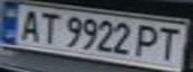2: (112, 19, 136, 56), (97, 18, 118, 54)
9: (60, 14, 84, 48), (78, 16, 100, 52)
A: (12, 7, 45, 43)
P: (133, 22, 163, 60)
T: (154, 25, 187, 61), (33, 10, 63, 44)
